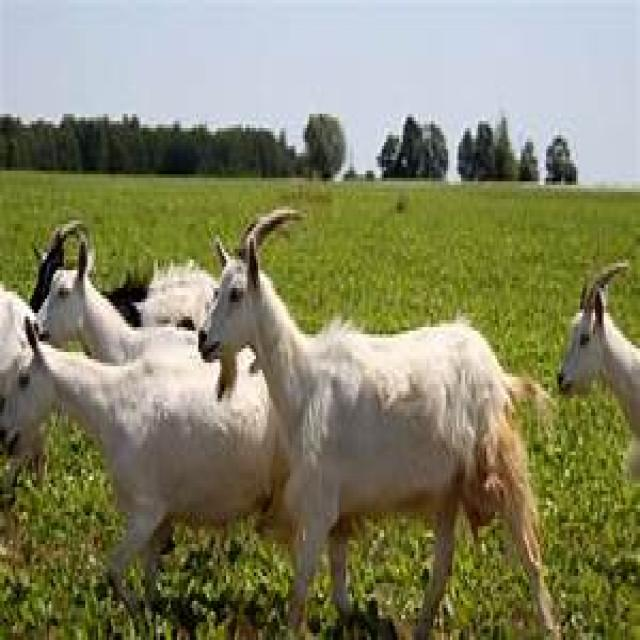sheep: (194, 203, 561, 636), (555, 256, 638, 484)
